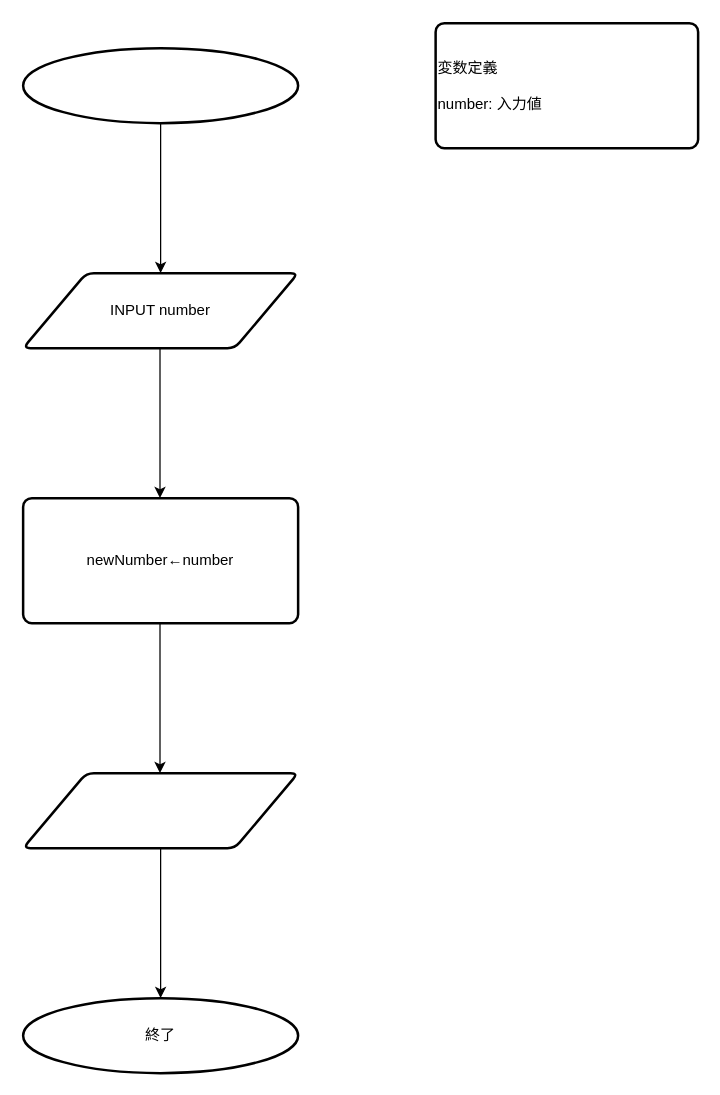
The diagram is 720 pixels wide and 1095 high, and some of its shapes have lost their labels. The shapes that lost their labels are listed below. From the top down, each one's centre as x and y in pixels, then its label:
pixel 160 85: 開始
pixel 160 810: PRINT newNumber
